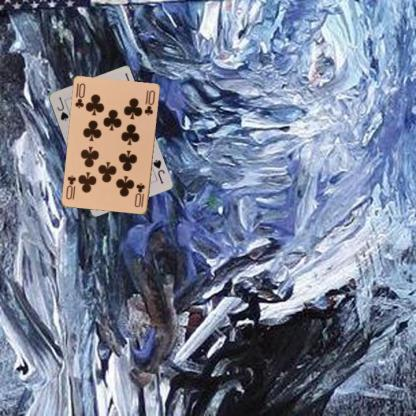10c: (72, 81, 87, 110), (132, 180, 146, 209)
Js: (150, 156, 166, 185), (54, 94, 70, 122)
